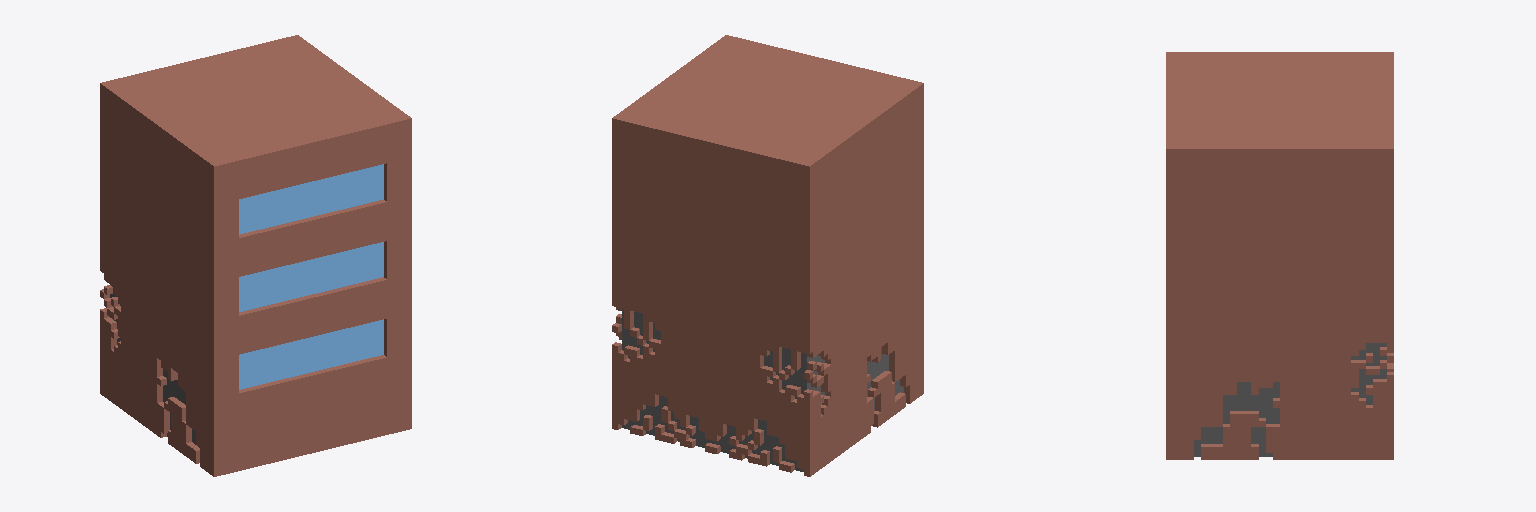
3 renders of one model, left to right at view 1: azimuth 30°, elevation 25°; view 2: azimuth 150°, elevation 25°; view 3: azimuth 270°, elevation 25°, orthographic.
Visible parts, largest first — view 1: object 1; view 2: object 1; view 3: object 1.
Boxes of the visible parts, x1=… form: object 1: x1=100, y1=35, x2=411, y2=476; object 1: x1=612, y1=35, x2=923, y2=476; object 1: x1=1166, y1=52, x2=1393, y2=459.
Bounding box in the file's own units: 3.2 × 4.8 × 3.2.
1 materials, 1 textured.